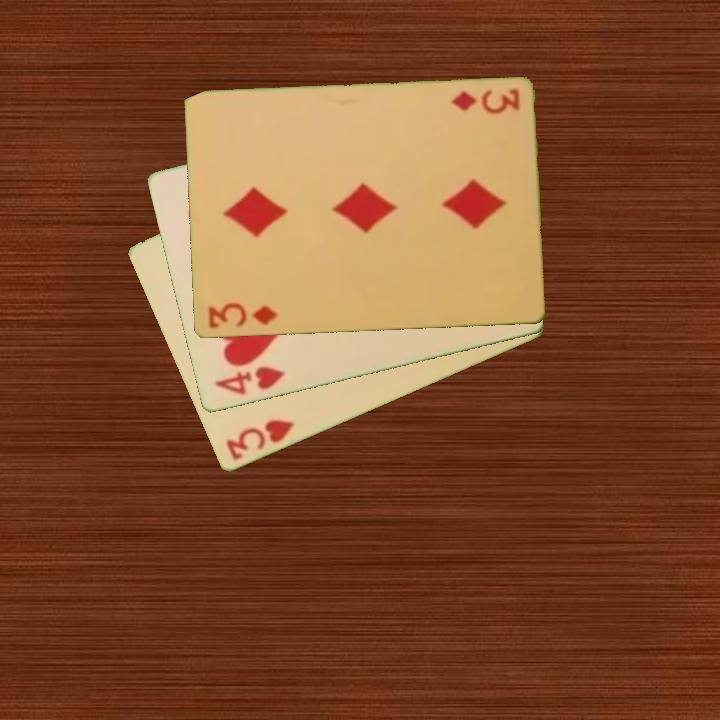3d: (204, 299, 280, 332), (447, 86, 522, 116)
3h: (222, 416, 297, 464)
4h: (211, 363, 287, 399)
